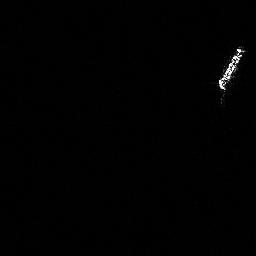ship: (215, 44, 248, 103)
